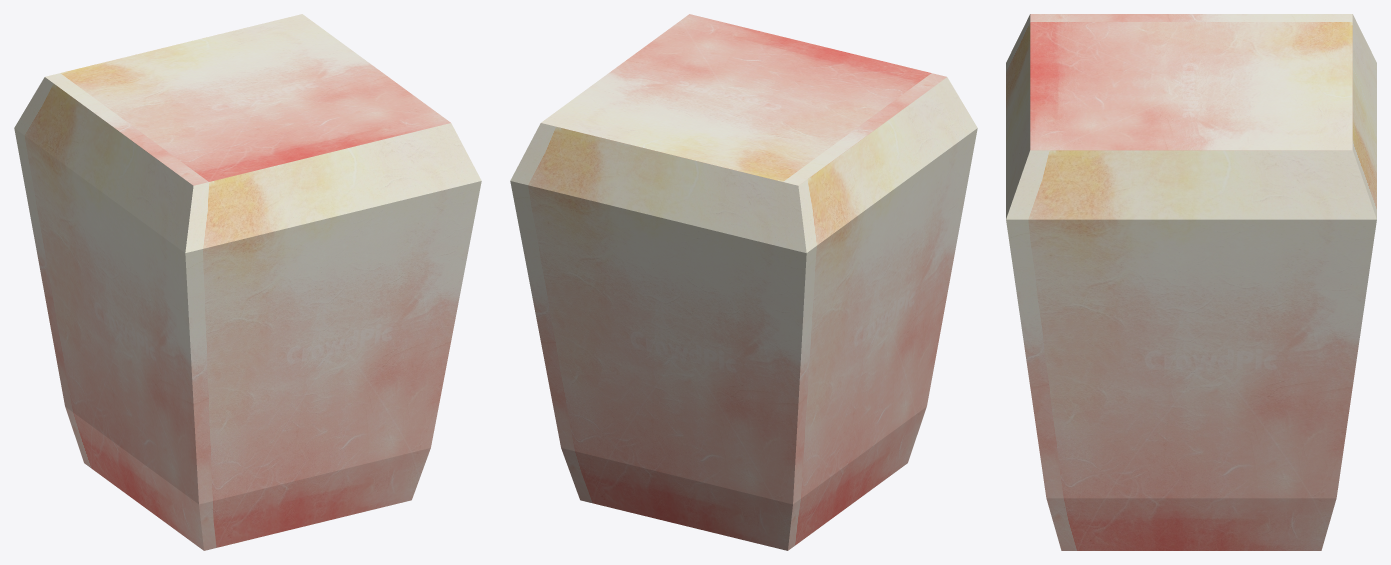
File: Lamp_final.fbx
3 views of the same model, side by side, from view 1: azimuth 30°, elevation 25°; view 2: azimuth 150°, elevation 25°; view 3: azimuth 270°, elevation 25° (orthographic). The views are drawn at different scales.
Visible parts, largest first — view 1: Cube; view 2: Cube; view 3: Cube.
Boxes of the visible parts, left/top/right/bottom form: Cube: left=14, top=14, right=481, bottom=550; Cube: left=510, top=14, right=977, bottom=550; Cube: left=1006, top=14, right=1376, bottom=550.
Size of the model in its own units: 262 by 323 by 262.
Materials: 1 (1 with a texture image).
